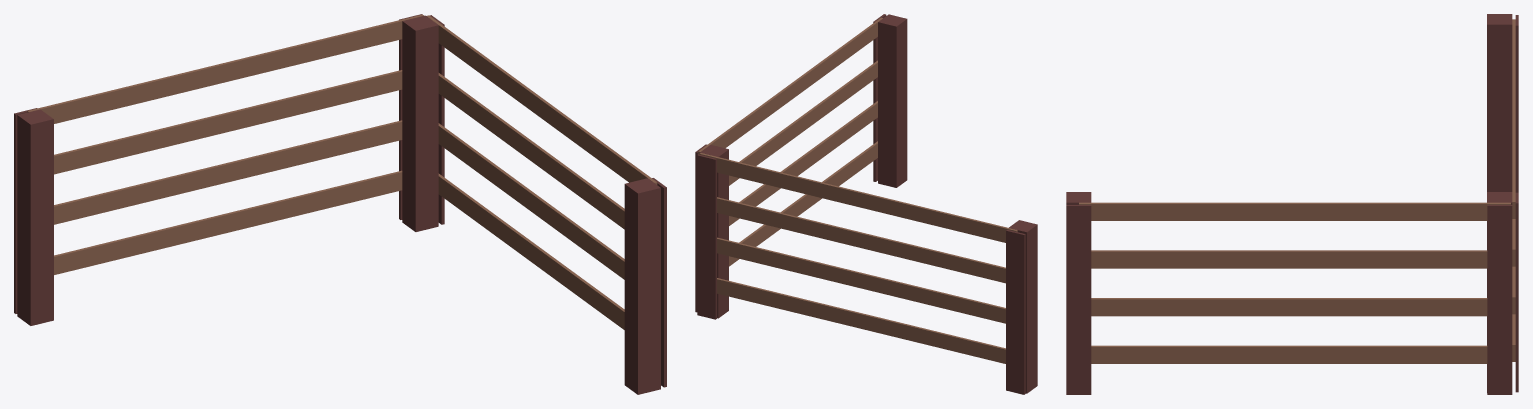
File: Fence Corner.fbx
3 views of the same model, side by side, from view 1: azimuth 30°, elevation 25°; view 2: azimuth 150°, elevation 25°; view 3: azimuth 270°, elevation 25° (orthographic). The views are drawn at different scales.
Visible parts, largest first — view 1: Fence Corner; view 2: Fence Corner; view 3: Fence Corner.
Boxes of the visible parts, x1,y1,x2,y2 form: Fence Corner: [14, 14, 666, 394]; Fence Corner: [695, 14, 1037, 394]; Fence Corner: [1066, 14, 1518, 394].
Bounding box in the file's own units: 215 × 215 × 100.
